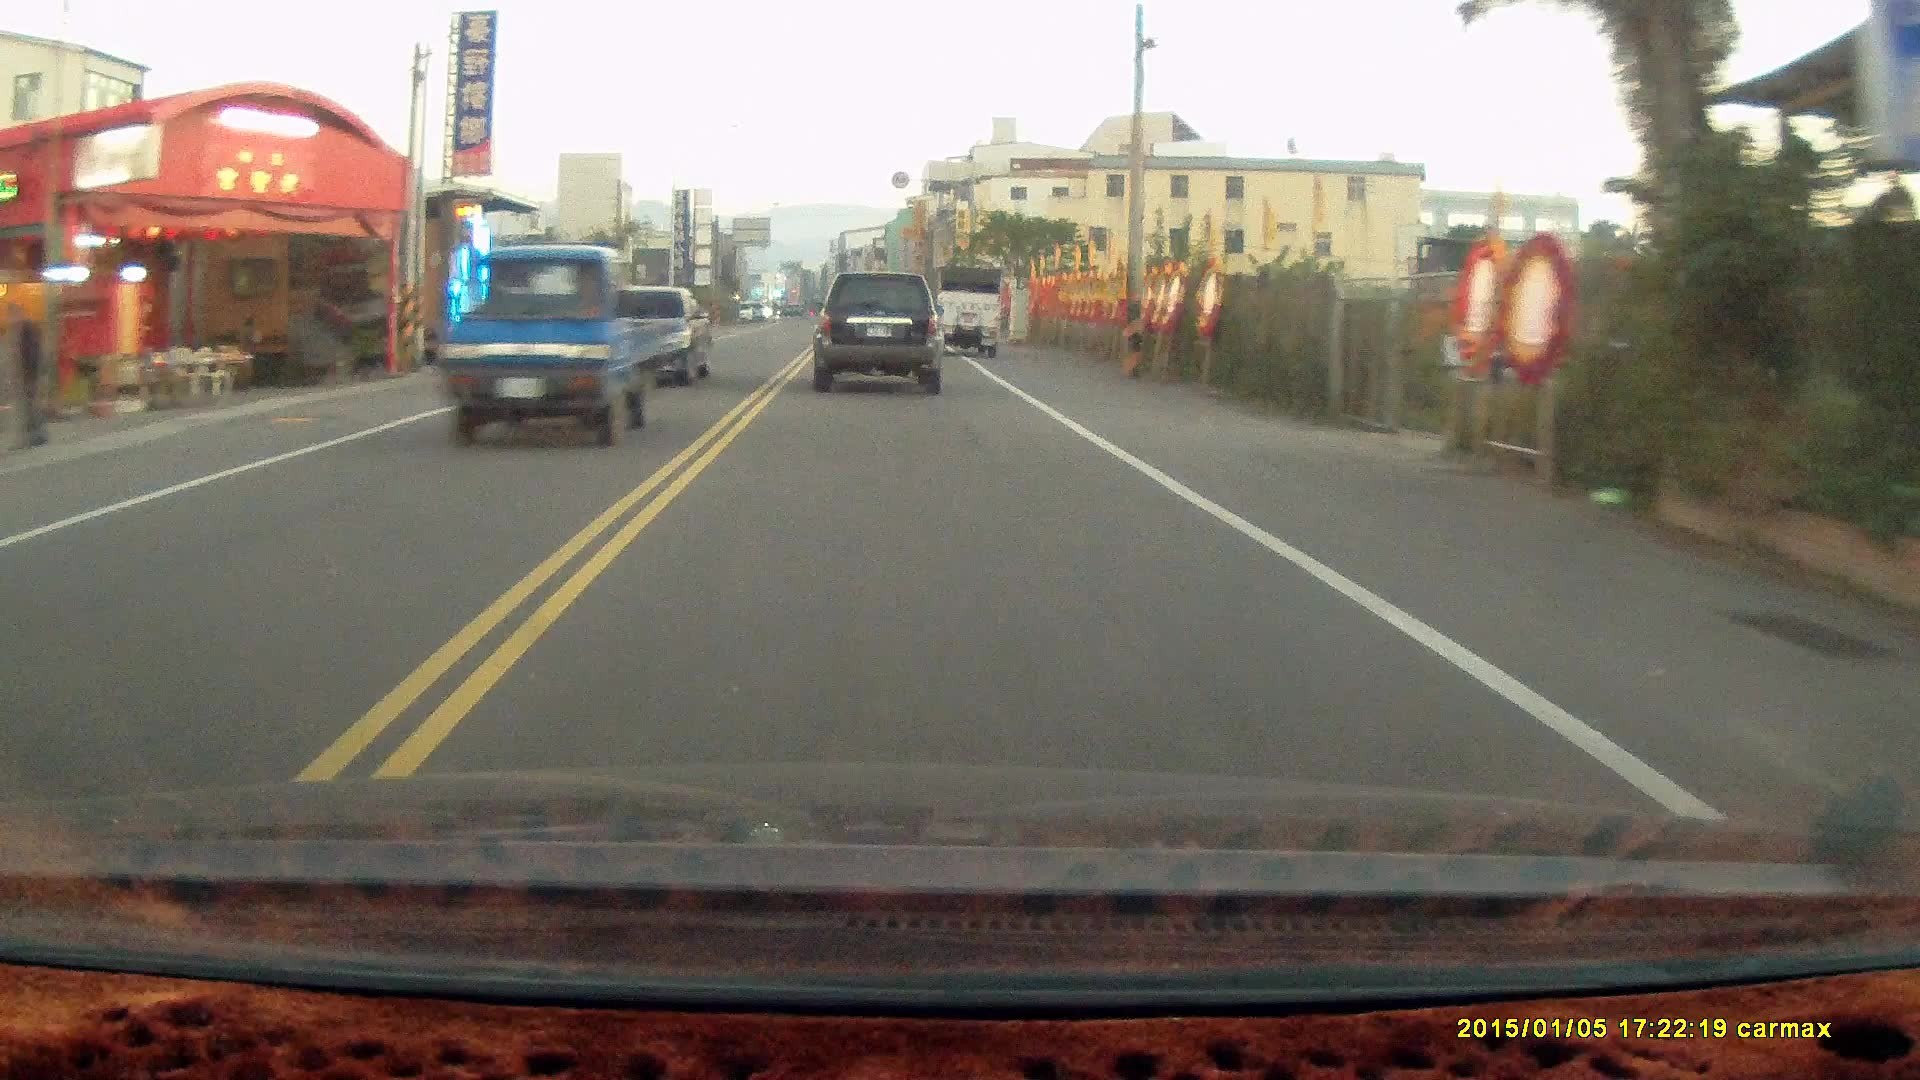vehicle: (440, 247, 675, 438), (814, 266, 949, 394), (570, 284, 716, 389), (935, 262, 1007, 359)
